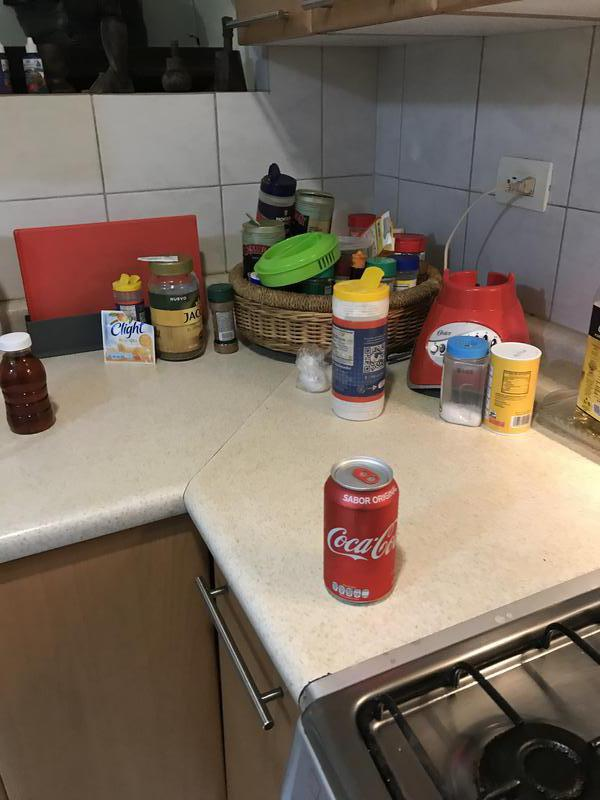coca_cola: (322, 458, 402, 604)
